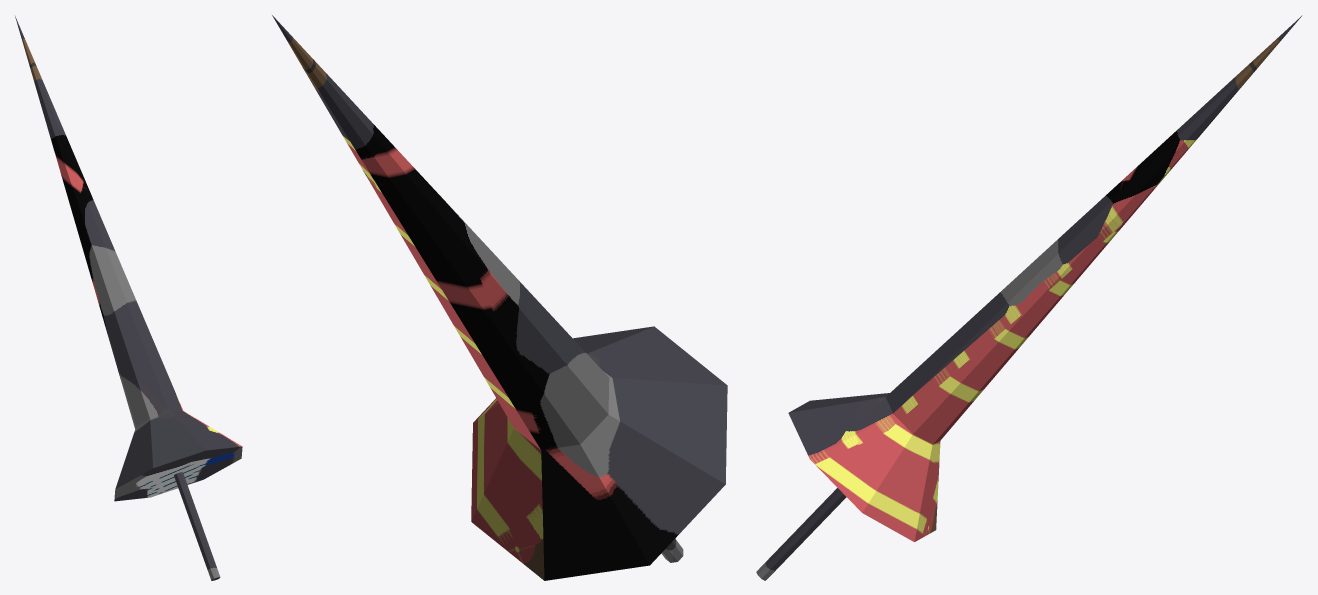
Rendered from spear_upgrade.FBX.
3 views of the same model, side by side, from view 1: azimuth 30°, elevation 25°; view 2: azimuth 150°, elevation 25°; view 3: azimuth 270°, elevation 25° (orthographic). The views are drawn at different scales.
Visible parts, largest first — view 1: Spear_3.001; view 2: Spear_3.001; view 3: Spear_3.001.
Part boxes in pixels (x1,y1,x2,y2): Spear_3.001: [15, 16, 242, 580]; Spear_3.001: [272, 15, 727, 580]; Spear_3.001: [756, 15, 1302, 580].
Size of the model in its own units: 46.16 by 147 by 129.
